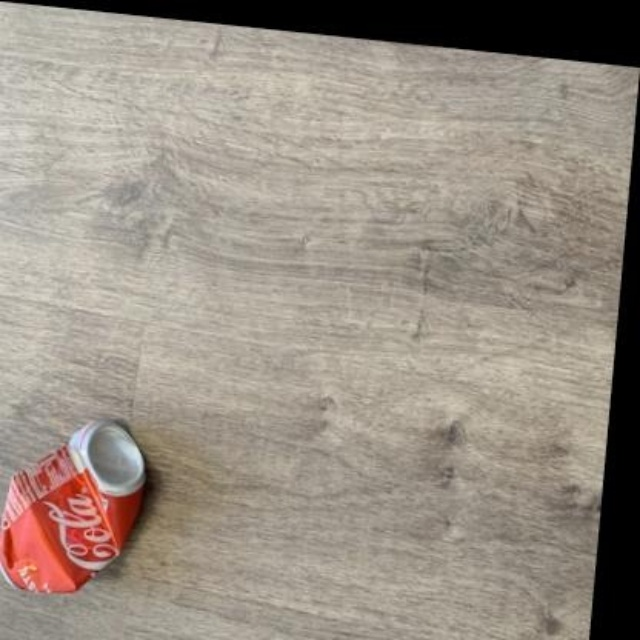trash: (0, 420, 145, 591)
